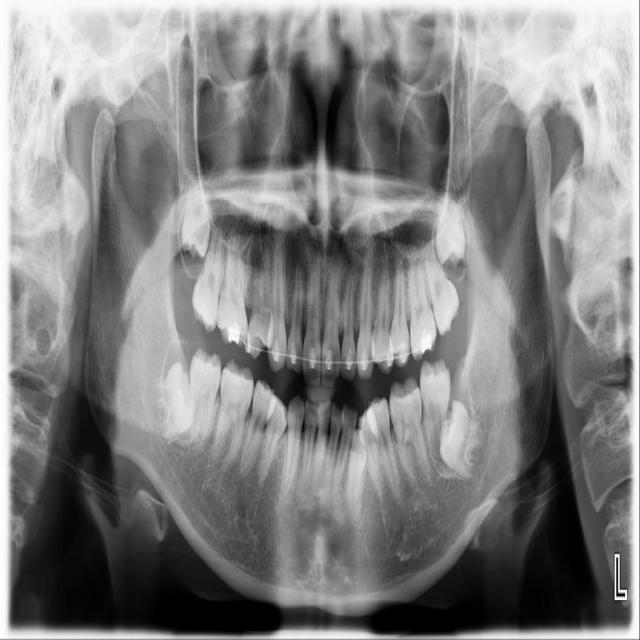3M ESPE Implant: (181, 173, 211, 260)
BioHorizons Implant: (419, 235, 465, 338)
BioLife Implant: (435, 192, 466, 267)
Biomet 3i Implant: (434, 398, 489, 481)
Blue Sky Bio Implant: (419, 358, 451, 462)
Caries: (187, 218, 231, 335)
Implant: (181, 347, 224, 456)
Keystone Dental Implant: (148, 360, 201, 441)
